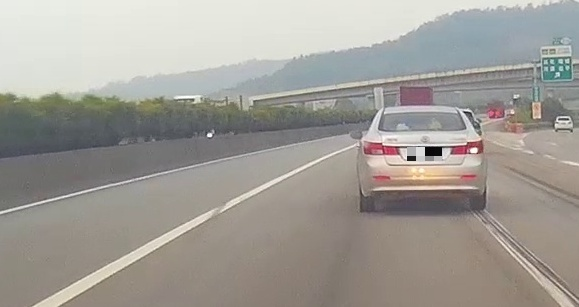L_light: (363, 140, 400, 155)
R_light: (450, 140, 483, 154)
T_light: (412, 111, 432, 114)
day-right: (359, 106, 487, 210)
plate_1: (407, 147, 442, 161)
